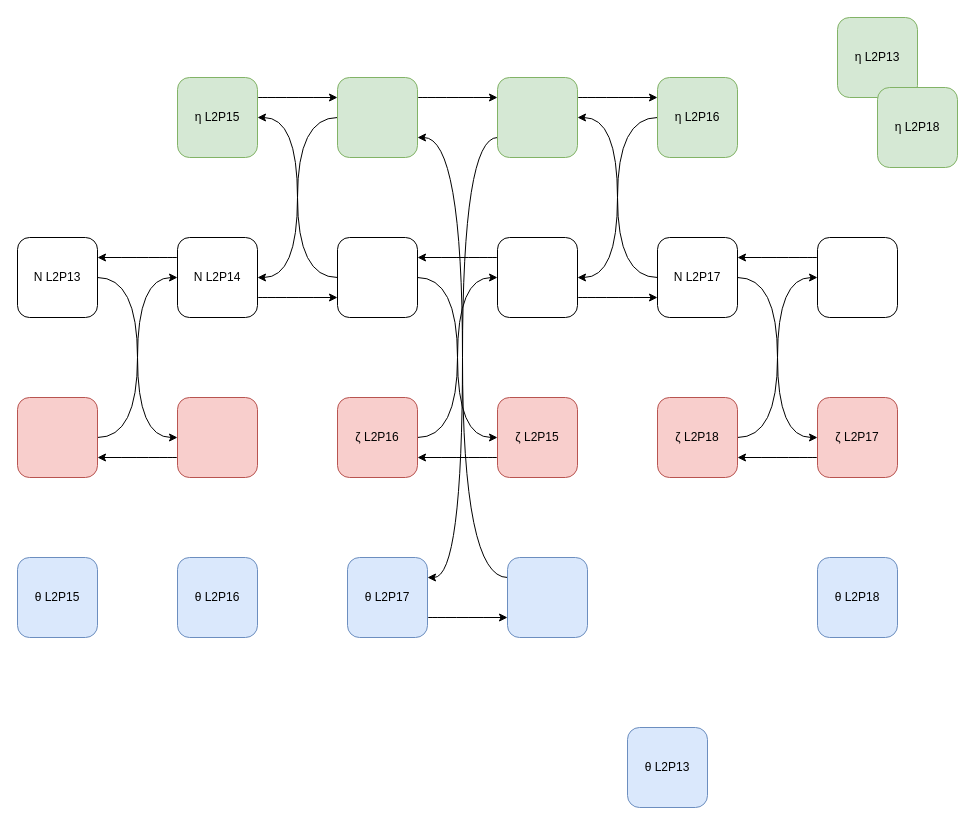
This 975x825 diagram has some shape labels left out. The shapes that lost their labels are listed below. From the top down, each one's box as (x1, y1, x2, y2) in pixels, then its label:
(336, 76, 418, 158): η L2P14
(496, 76, 578, 158): η L2P17
(336, 236, 418, 318): N L2P15
(496, 236, 578, 318): N L2P16
(816, 236, 898, 318): N L2P18
(16, 396, 98, 478): ζ L2P14
(176, 396, 258, 478): ζ L2P13
(506, 556, 588, 638): θ L2P14
